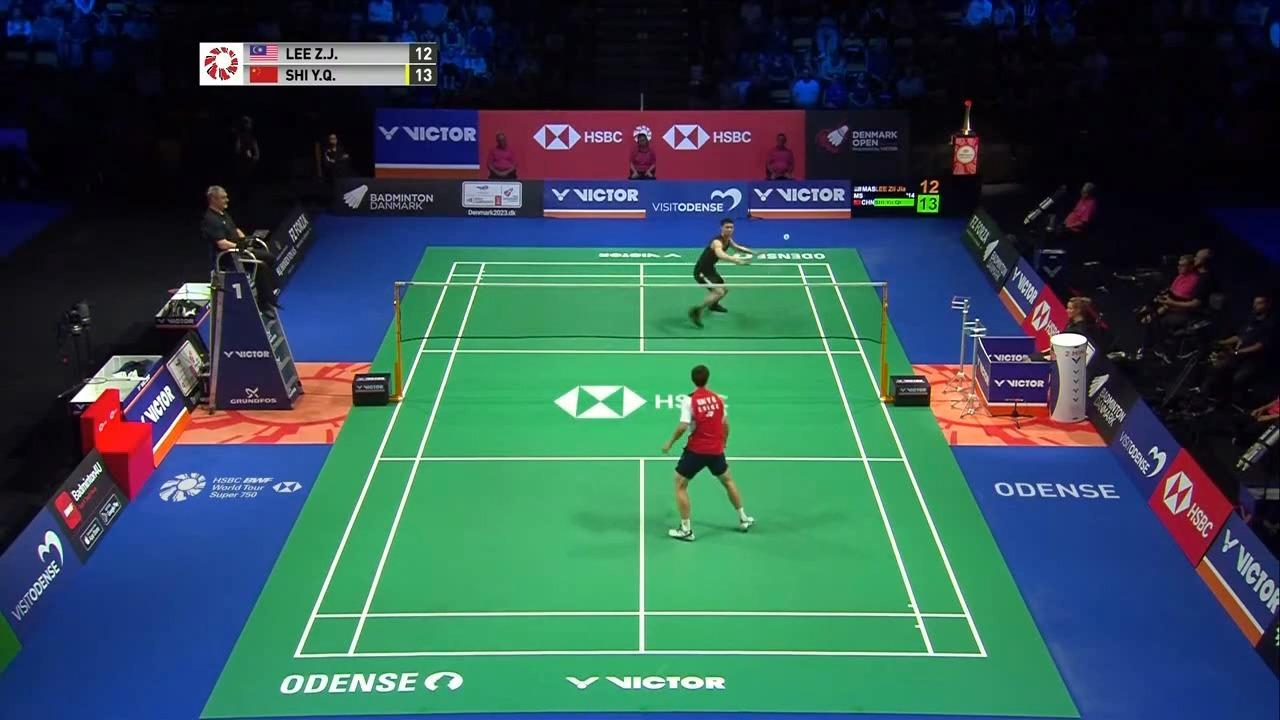shuttle: (782, 234, 794, 244)
